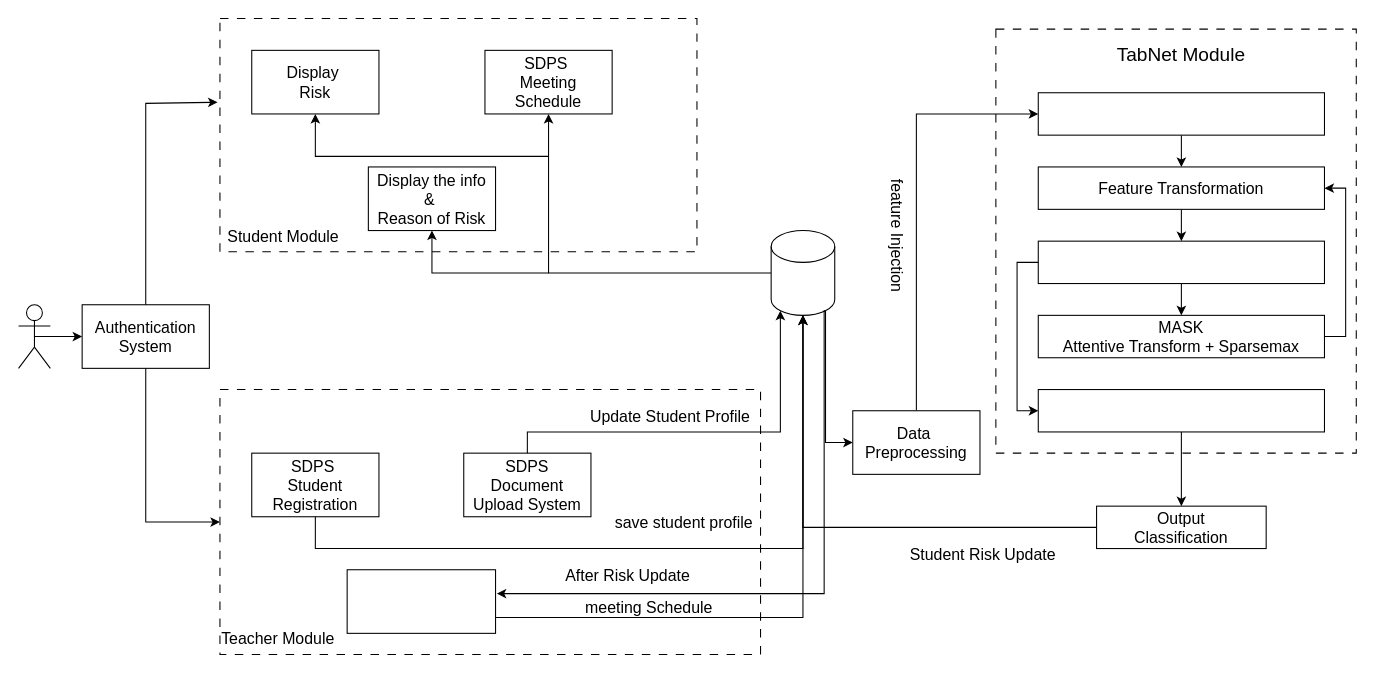
Some shapes in this 1375 by 673 pixel diagram are drawn without their labels. Here are the shapes that lost their labels. From the top down, the box of each, then its label:
(1037, 92, 1324, 135): Vector Embedding
(1037, 240, 1324, 284): SPLIT
(17, 304, 50, 368): Actor
(1037, 388, 1324, 432): ReLU
(346, 569, 496, 633): SDPS Notification & Meeting Schedule
